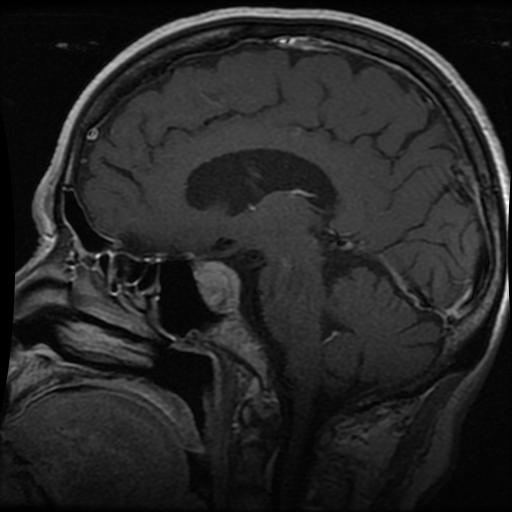Pituirity_tumour: (192, 259, 240, 311)
